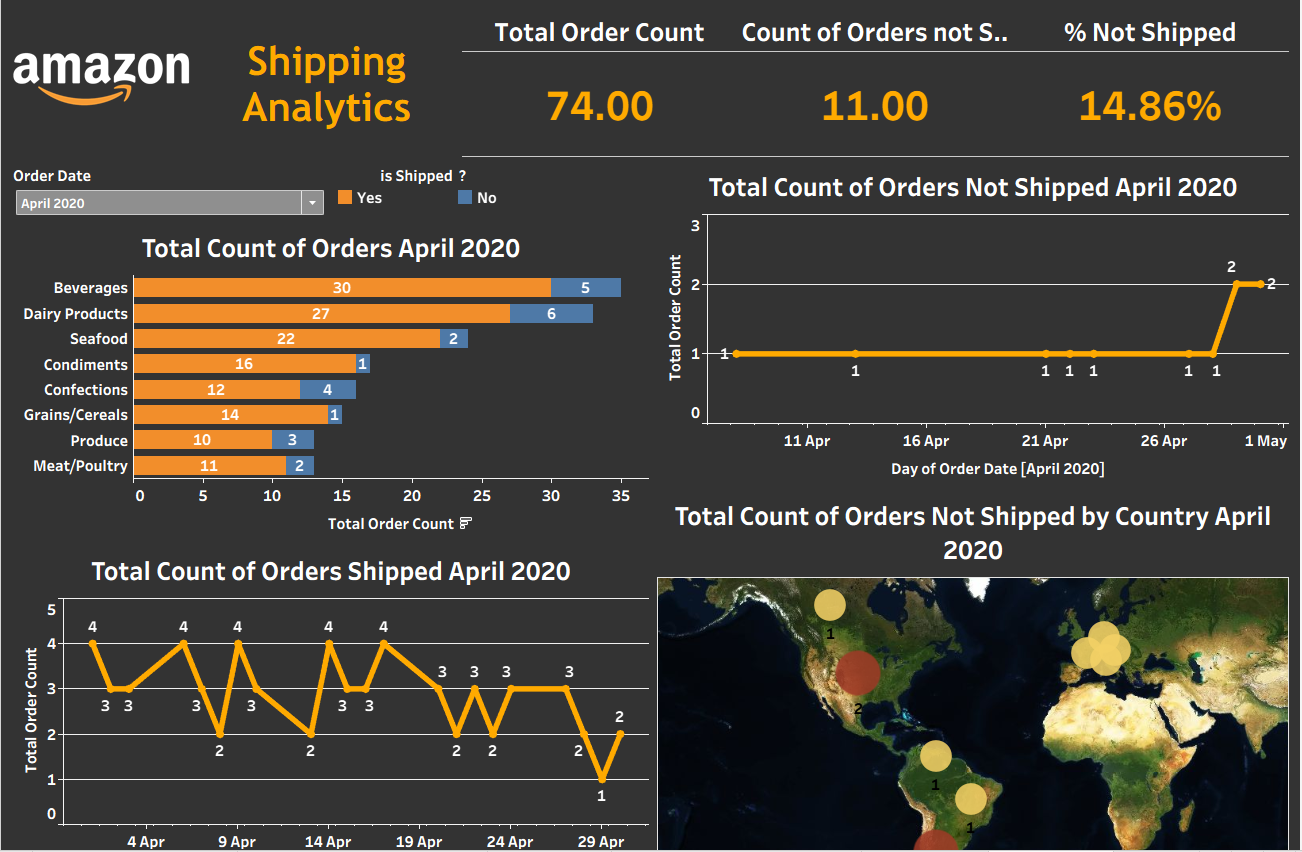

Layout of this report page (visuals, bound fields, positions):
{"tool":"tableau","page":{"name":"Dashboard 1","canvas":[1300,900],"ordinal":0},"visuals":[{"type":"image","param":"Image/amazon_PNG11.png","box":[8,8,186,154]},{"type":"text","box":[194,8,263,154]},{"type":"worksheet","title":"Headline Cards","mark":"Automatic","box":[457,8,835,154]},{"type":"filter","title":"Count of Orders","param":"[federated.15y85ei016dti91bm2ayw1dtszi3].[my:Calculation_1481895434133929984:ok]","box":[8,162,322,61]},{"type":"legend","title":"Count of Orders","param":"[federated.15y85ei016dti91bm2ayw1dtszi3].[none:Calculation_1481895434151337987:n","box":[330,162,322,61]},{"type":"worksheet","title":"Count of Orders for Month (Not Shipped)","mark":"Automatic","rows":["Calculation_1481895434149076994"],"cols":["Calculation_1481895434133929984"],"box":[651.7,162,640.3,329]},{"type":"worksheet","title":"Count of Orders","mark":"Automatic","rows":["CategoryName"],"cols":["Calculation_1481895434149076994"],"box":[8,223,643.7,323]},{"type":"worksheet","title":"Count of orders not shipped by country","mark":"Automatic","box":[651.7,491,640.3,401]},{"type":"worksheet","title":"Count of Orders for Month","mark":"Automatic","rows":["Calculation_1481895434149076994"],"cols":["Calculation_1481895434133929984"],"box":[8,546,643.7,346]}]}

Visuals, with their boxes on the page's 1300x900 design canvas (x1, y1, x2, y2). These are canvas units, not pixel positions in the 1302x852 screenshot, which may show the page scaled, cropped or inside an application window:
image: <bbox>8, 8, 194, 162</bbox>
text: <bbox>194, 8, 457, 162</bbox>
"Headline Cards" worksheet: <bbox>457, 8, 1292, 162</bbox>
"Count of Orders" filter: <bbox>8, 162, 330, 223</bbox>
"Count of Orders" legend: <bbox>330, 162, 652, 223</bbox>
"Count of Orders for Month (Not Shipped)" worksheet: <bbox>652, 162, 1292, 491</bbox>
"Count of Orders" worksheet: <bbox>8, 223, 652, 546</bbox>
"Count of orders not shipped by country" worksheet: <bbox>652, 491, 1292, 892</bbox>
"Count of Orders for Month" worksheet: <bbox>8, 546, 652, 892</bbox>
